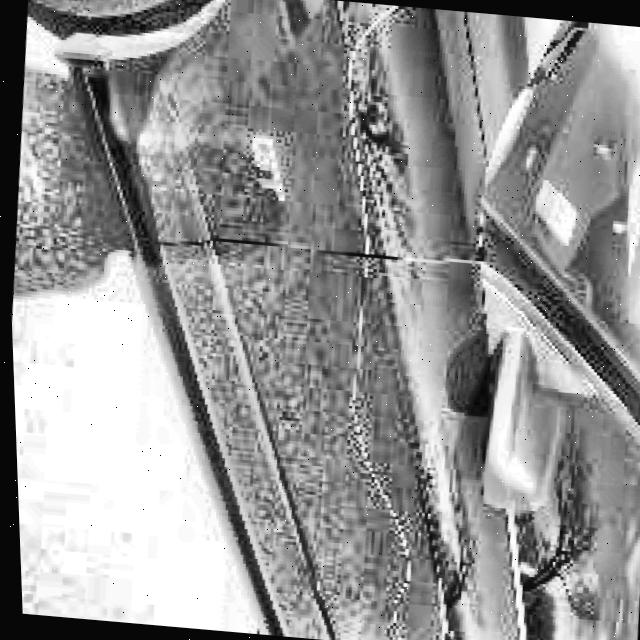door_scratch: (325, 33, 403, 426), (360, 442, 431, 640)
